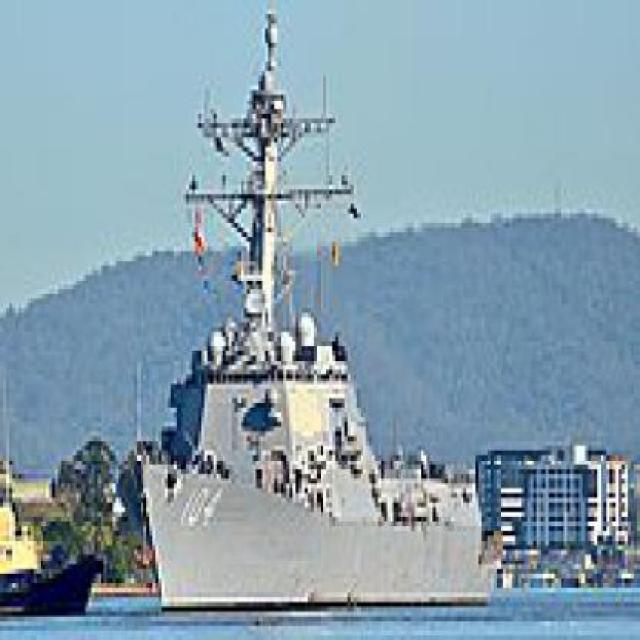warship2: (129, 24, 489, 632)
